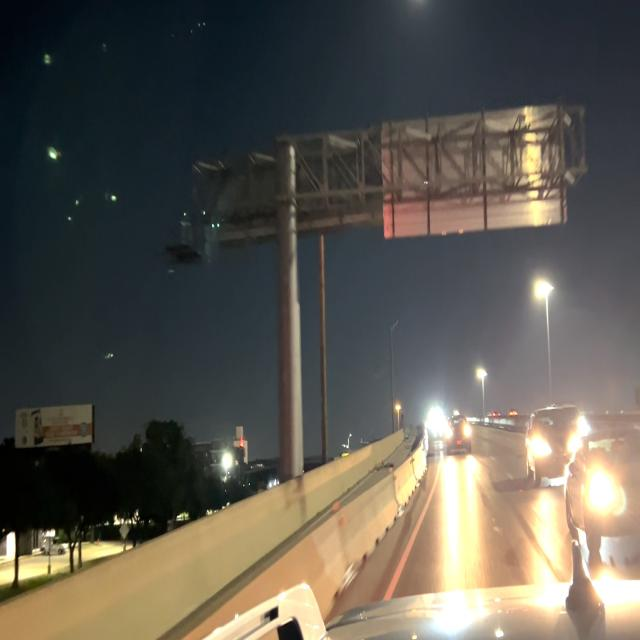back-of-sign: (376, 93, 579, 245)
